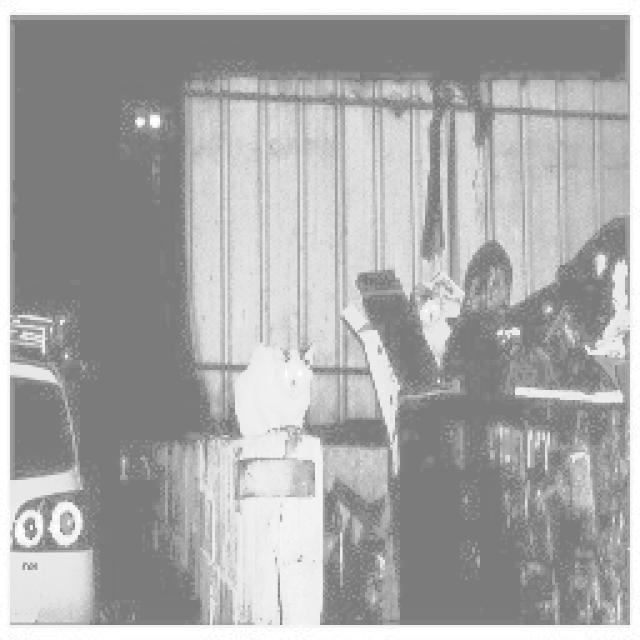cat: (218, 316, 330, 443)
